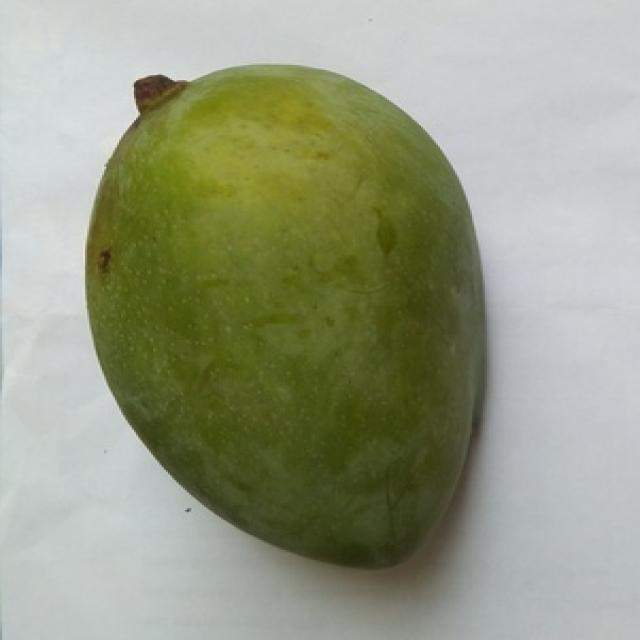Mango: (85, 65, 483, 563)
